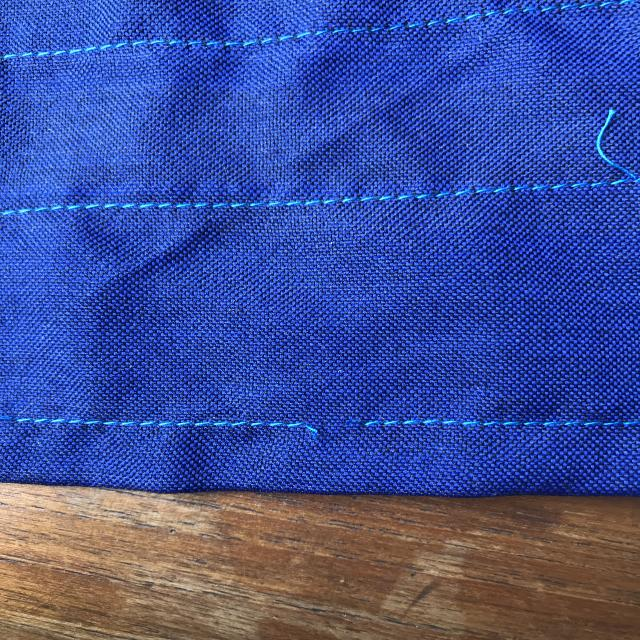broken: (282, 401, 405, 449)
good: (165, 187, 334, 228)
